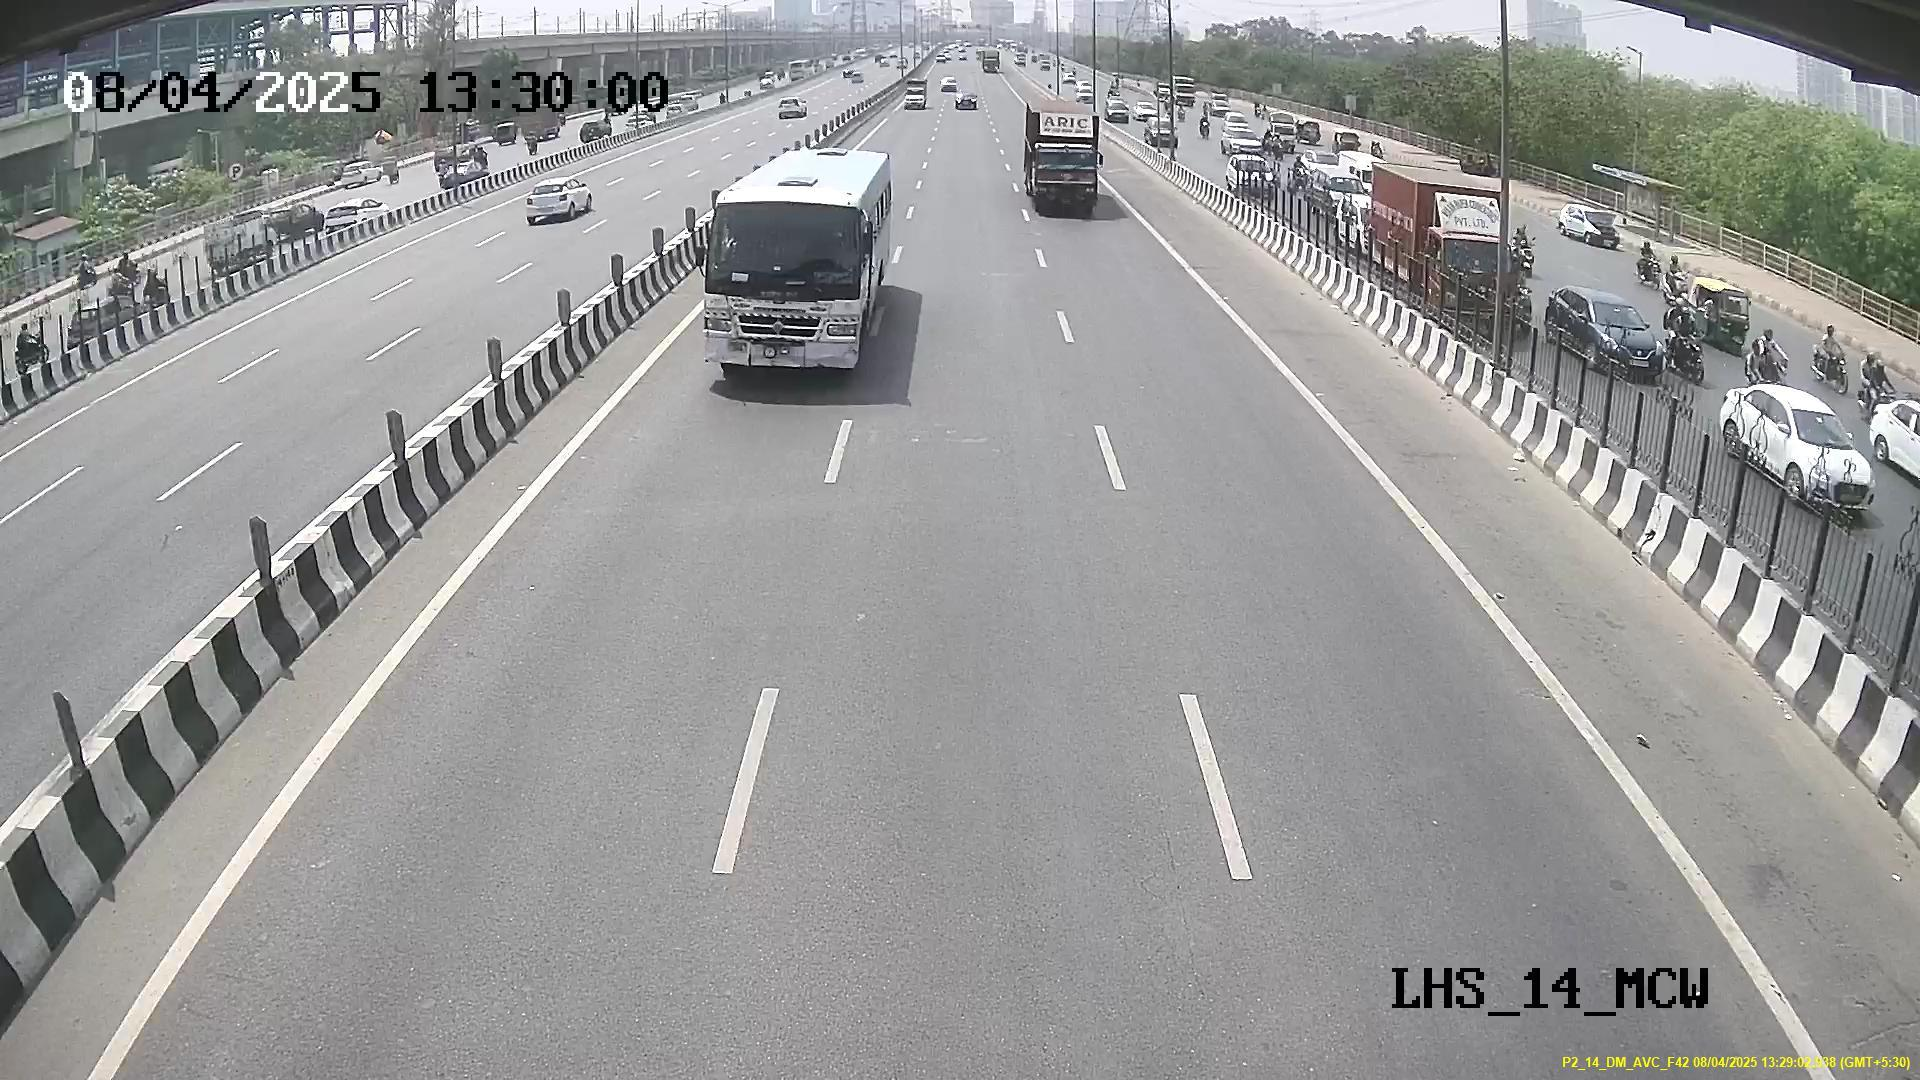bus: (696, 178, 881, 377)
lcv: (1025, 131, 1108, 212)
